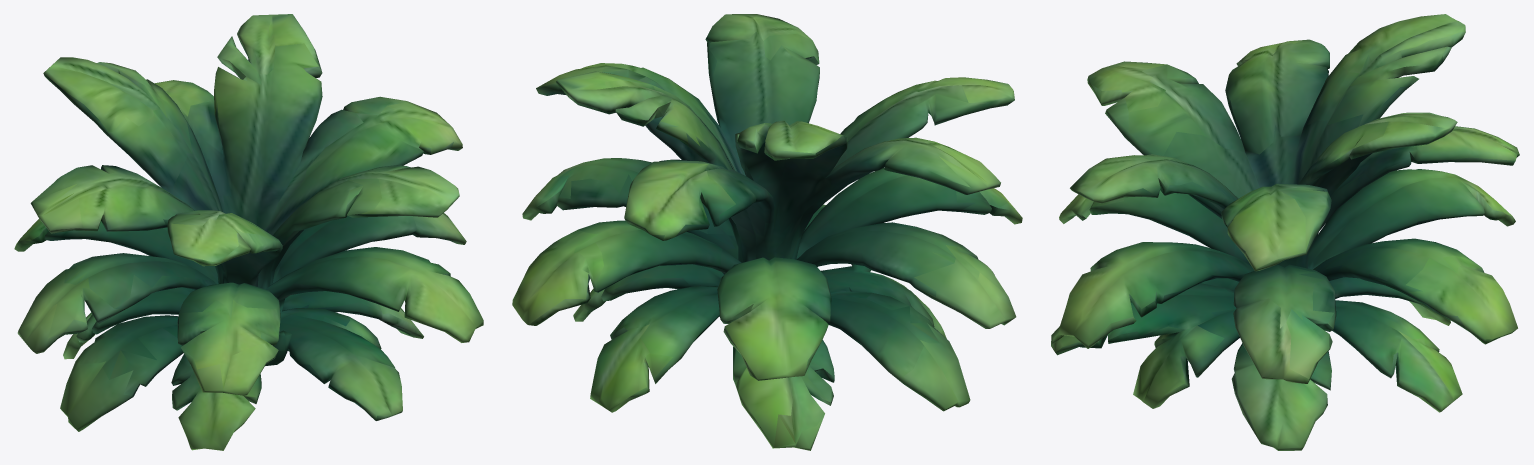
File: f06_planta_folhas_largas.glb
3 renders of one model, left to right at view 1: azimuth 30°, elevation 25°; view 2: azimuth 150°, elevation 25°; view 3: azimuth 270°, elevation 25°, orthographic. The views are drawn at different scales.
Visible parts, largest first — view 1: f06_planta_folhas_largas; view 2: f06_planta_folhas_largas; view 3: f06_planta_folhas_largas.
Boxes of the visible parts, bbox=[...] form: f06_planta_folhas_largas: bbox=[14, 14, 483, 450]; f06_planta_folhas_largas: bbox=[512, 14, 1022, 450]; f06_planta_folhas_largas: bbox=[1051, 14, 1519, 450].
Size of the model in its own units: 0.8195 by 0.516 by 0.7349.
1 material, 1 textured.
